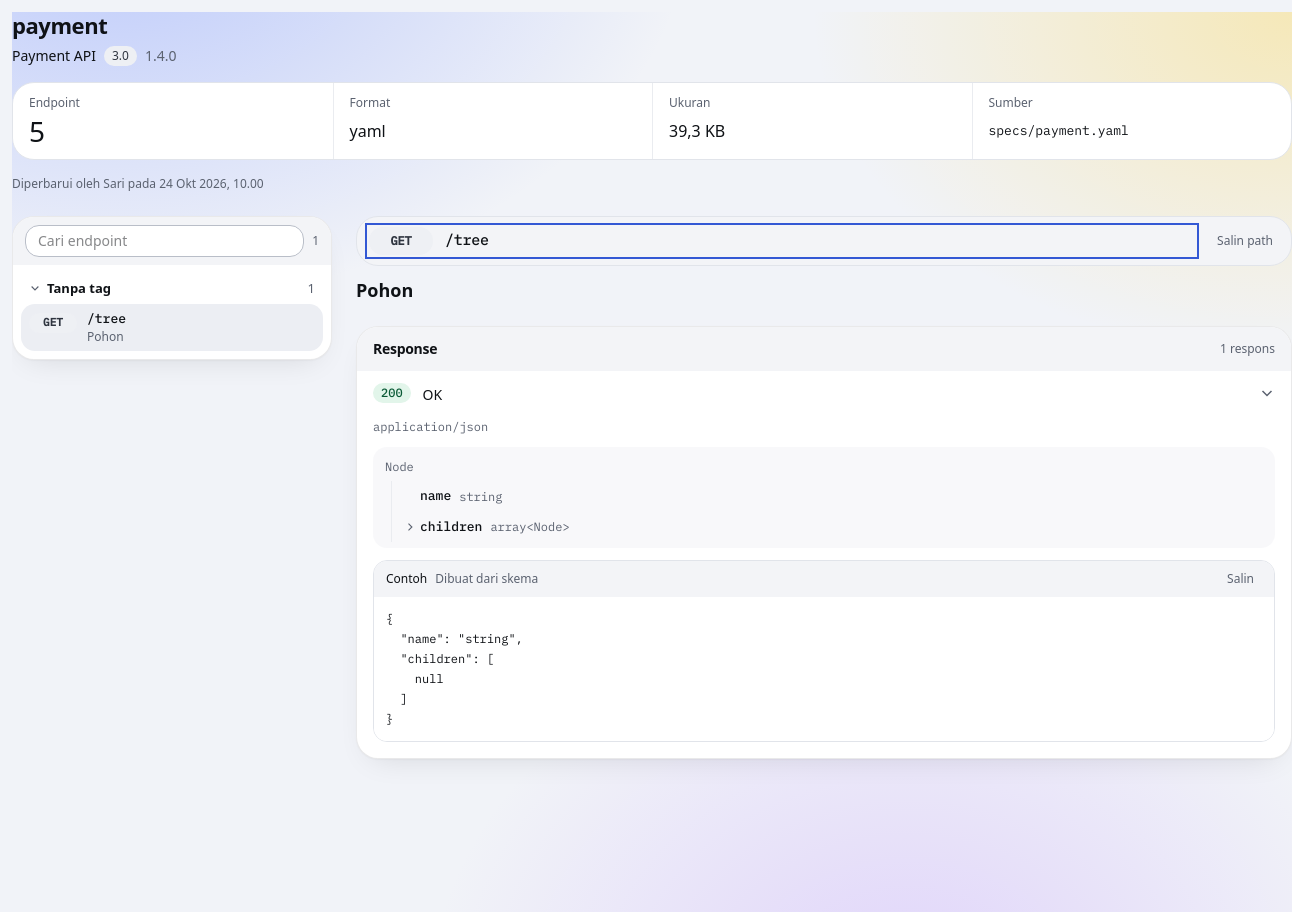
Test: SpecDetailView › circular spec renders without hanging and marks the cycle
Expected: the heading "GET /tree" is shown, [369,226,489,254]
Step 1. Click the button "children" → (443, 527), box [404,518,482,536]
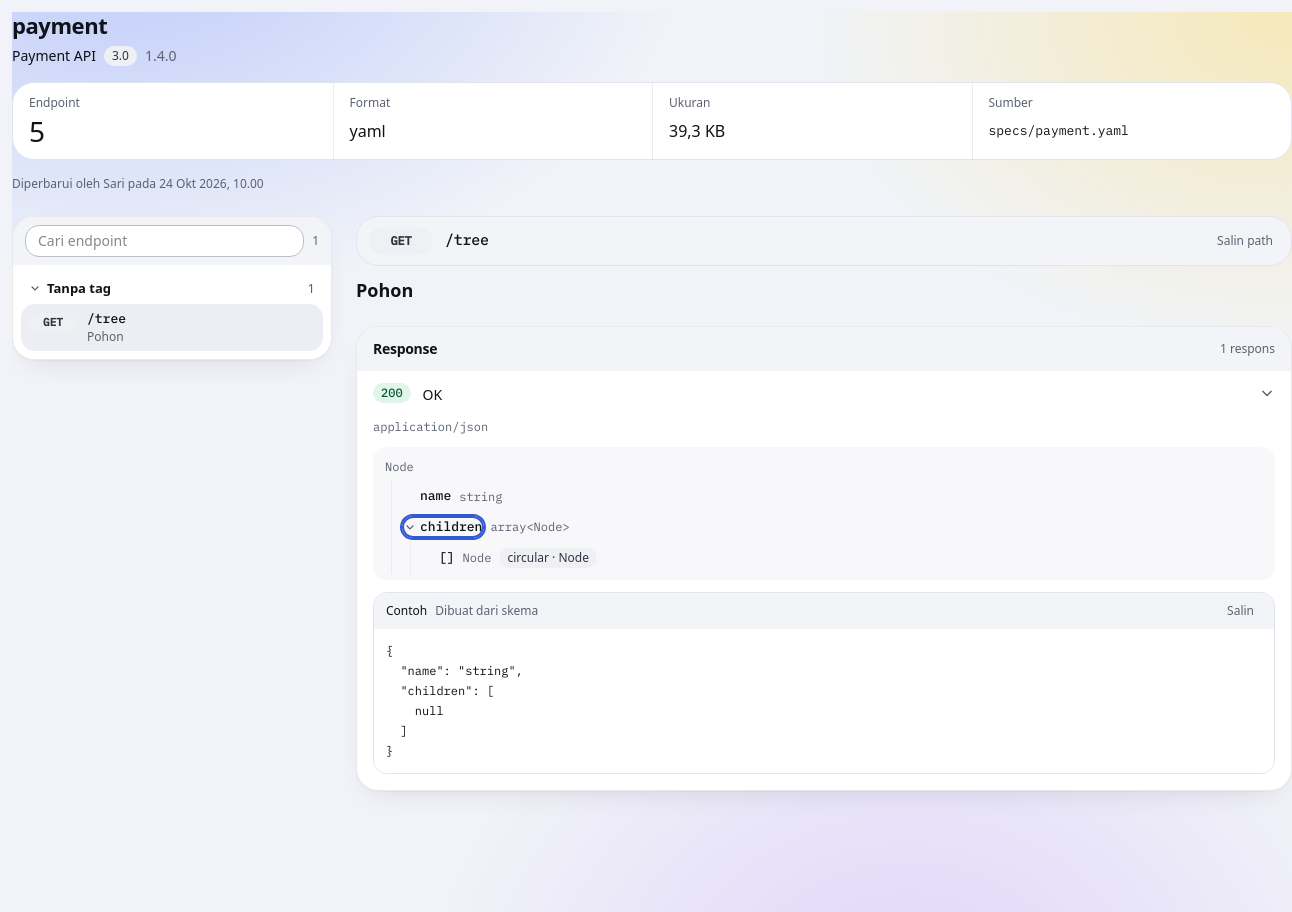
Result: the text "circular · Node" is shown at [499,548,597,568]
